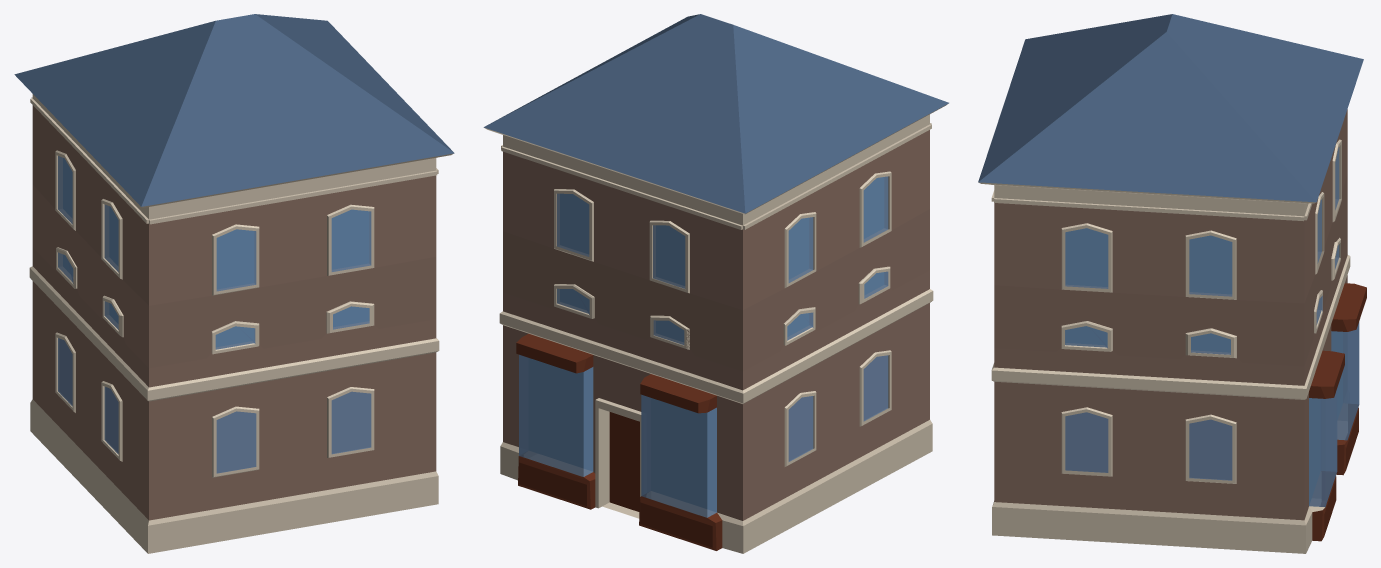
Rendered from CityApart1.fbx.
3 views of the same model, side by side, from view 1: azimuth 30°, elevation 25°; view 2: azimuth 150°, elevation 25°; view 3: azimuth 270°, elevation 25° (orthographic). The views are drawn at different scales.
Visible parts, largest first — view 1: 1; view 2: 1; view 3: 1.
Boxes of the visible parts, x1,y1,x2,y2 form: 1: (14, 14, 454, 553); 1: (483, 14, 948, 553); 1: (978, 14, 1366, 553).
Size of the model in its own units: 7.59 by 9.89 by 7.65.
